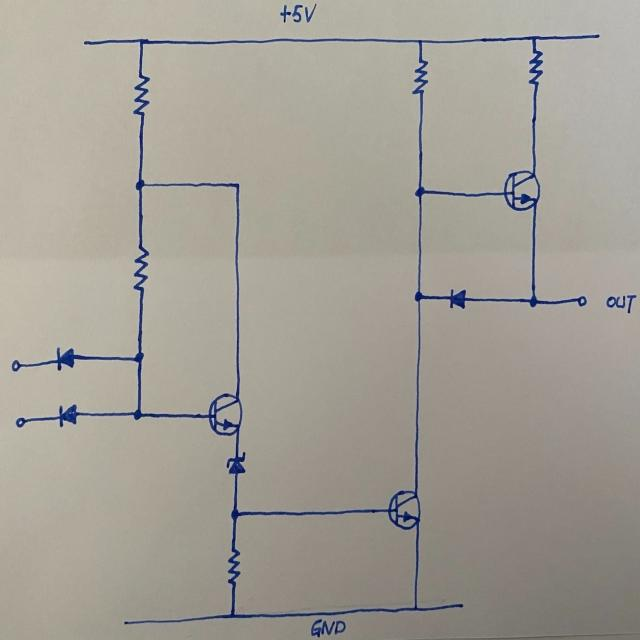diode: (51, 398, 82, 432), (48, 341, 80, 373), (442, 284, 472, 314), (223, 449, 253, 477)
junction: (222, 603, 244, 624), (132, 175, 150, 195), (127, 348, 147, 366), (226, 502, 242, 524), (409, 285, 426, 305), (521, 292, 540, 309), (412, 181, 427, 202), (226, 176, 243, 194), (130, 403, 146, 422), (411, 34, 428, 49), (409, 598, 421, 619), (136, 32, 150, 49), (527, 31, 543, 45)
resistor: (131, 70, 150, 122), (131, 244, 151, 293), (410, 55, 430, 97), (225, 547, 243, 588), (527, 48, 543, 88)
terminal: (7, 354, 35, 376), (568, 290, 594, 309), (73, 32, 99, 50), (117, 616, 146, 630), (581, 30, 609, 44), (12, 413, 34, 430), (446, 596, 469, 612)
text: (277, 1, 321, 26), (306, 618, 347, 638), (603, 292, 636, 314)
transistor: (501, 167, 542, 213), (205, 392, 245, 438), (386, 486, 425, 531)
